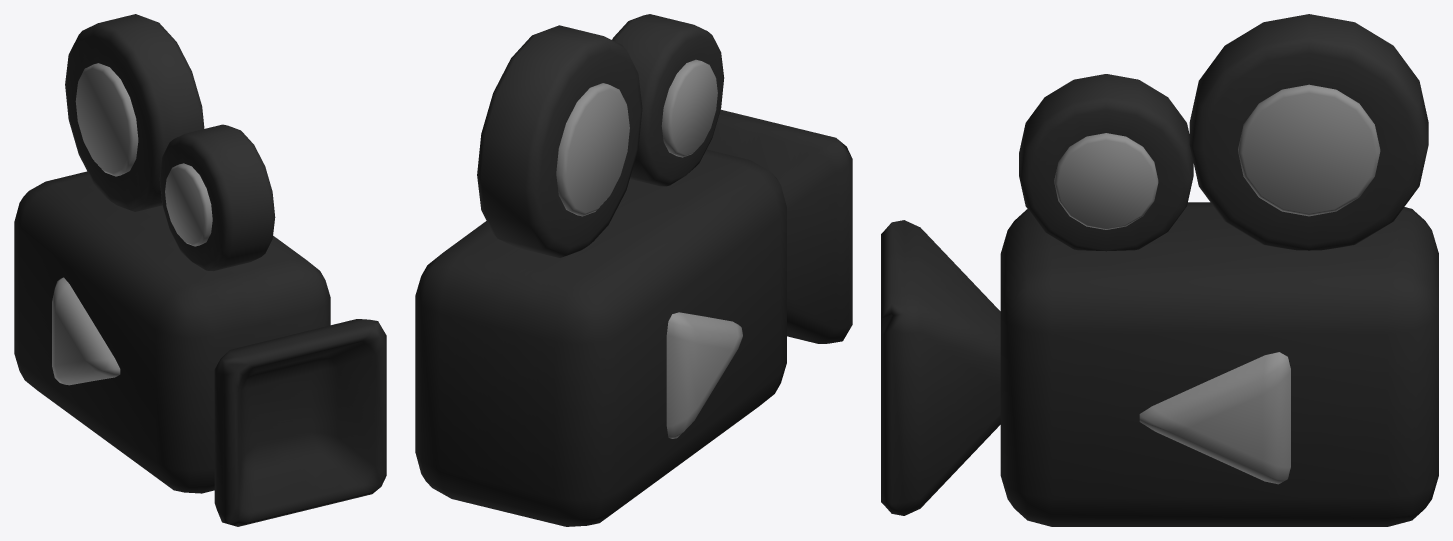
The model's file is camera.glb.
3 views of the same model, side by side, from view 1: azimuth 30°, elevation 25°; view 2: azimuth 150°, elevation 25°; view 3: azimuth 270°, elevation 25° (orthographic). The views are drawn at different scales.
Parts seen in each view (by area): view 1: camera; view 2: camera; view 3: camera.
Boxes of the visible parts, x1,y1,x2,y2 form: camera: (14,14,386,526); camera: (415,14,852,526); camera: (881,14,1438,526).
Size of the model in its own units: 0.3663 by 0.6589 by 0.7132.
1 material, 1 textured.
